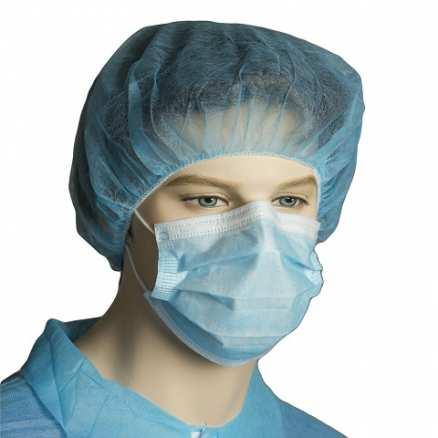Wearing Mask: (67, 8, 386, 385)
